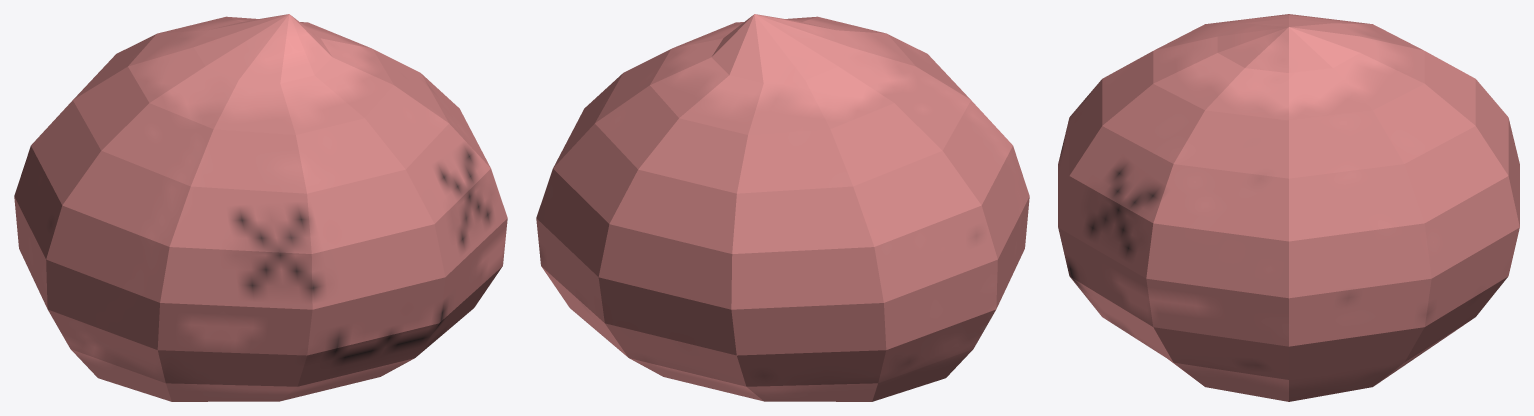
The model's file is poling.fbx.
3 renders of one model, left to right at view 1: azimuth 30°, elevation 25°; view 2: azimuth 150°, elevation 25°; view 3: azimuth 270°, elevation 25°, orthographic. The views are drawn at different scales.
Parts seen in each view (by area): view 1: pSphere1; view 2: pSphere1; view 3: pSphere1.
Part boxes in pixels (<box>): pSphere1: <box>14,14,507,401</box>; pSphere1: <box>536,14,1029,401</box>; pSphere1: <box>1058,14,1519,401</box>.
Size of the model in its own units: 200 by 158 by 190.
